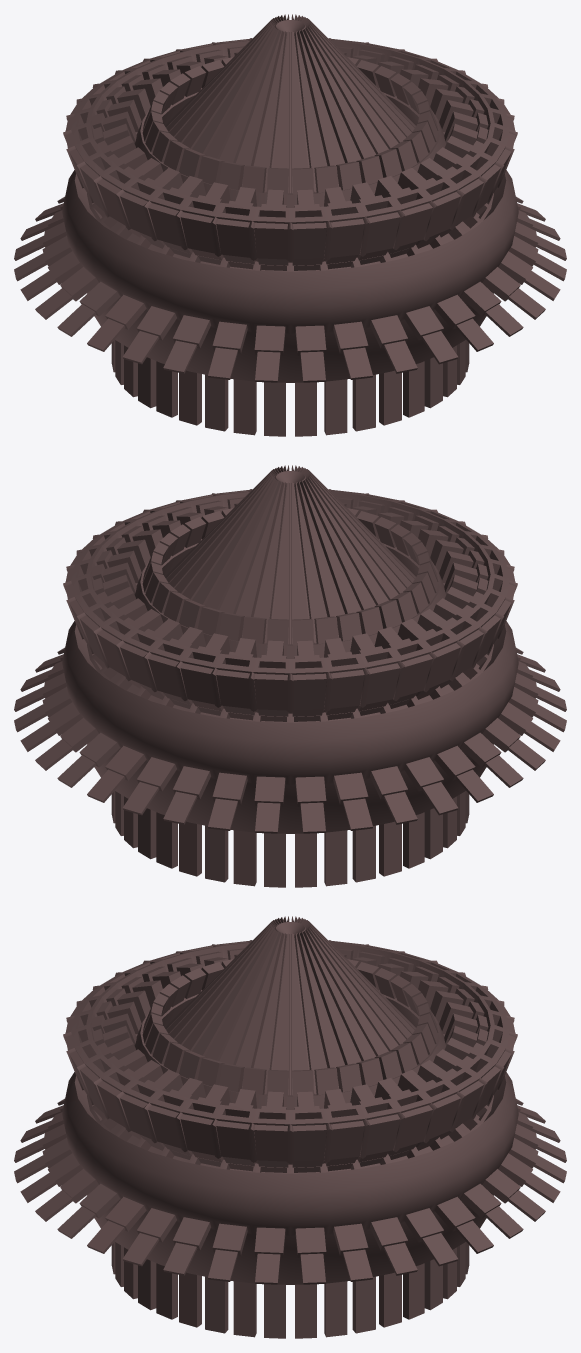
Rendered from blackholeorportalgenerator.fbx.
3 renders of one model, top to bottom at view 1: azimuth 30°, elevation 25°; view 2: azimuth 150°, elevation 25°; view 3: azimuth 270°, elevation 25°, orthographic.
Visible parts, largest first — view 1: Torus; view 2: Torus; view 3: Torus.
Boxes of the visible parts, bbox=[...] form: Torus: bbox=[14, 14, 566, 436]; Torus: bbox=[14, 465, 566, 887]; Torus: bbox=[14, 916, 566, 1338].
Size of the model in its own units: 1202 by 812 by 1202.
